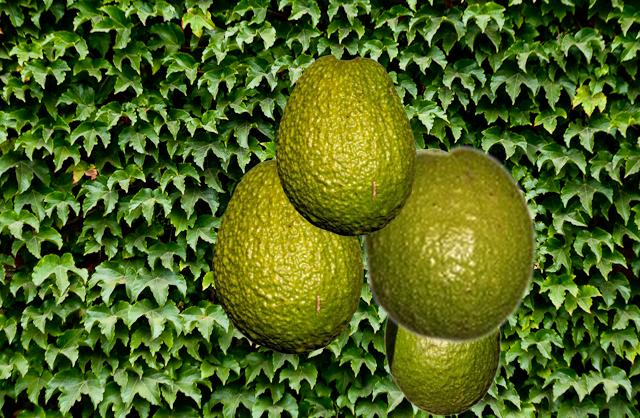avocado: (359, 143, 537, 345), (212, 159, 362, 353), (275, 54, 415, 235), (384, 319, 500, 415)
